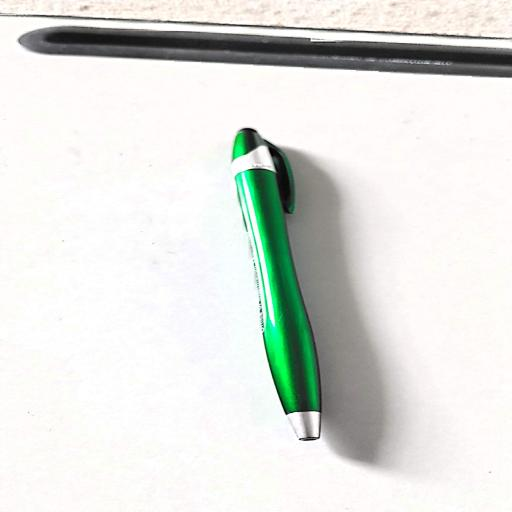pen: (232, 129, 320, 440)
